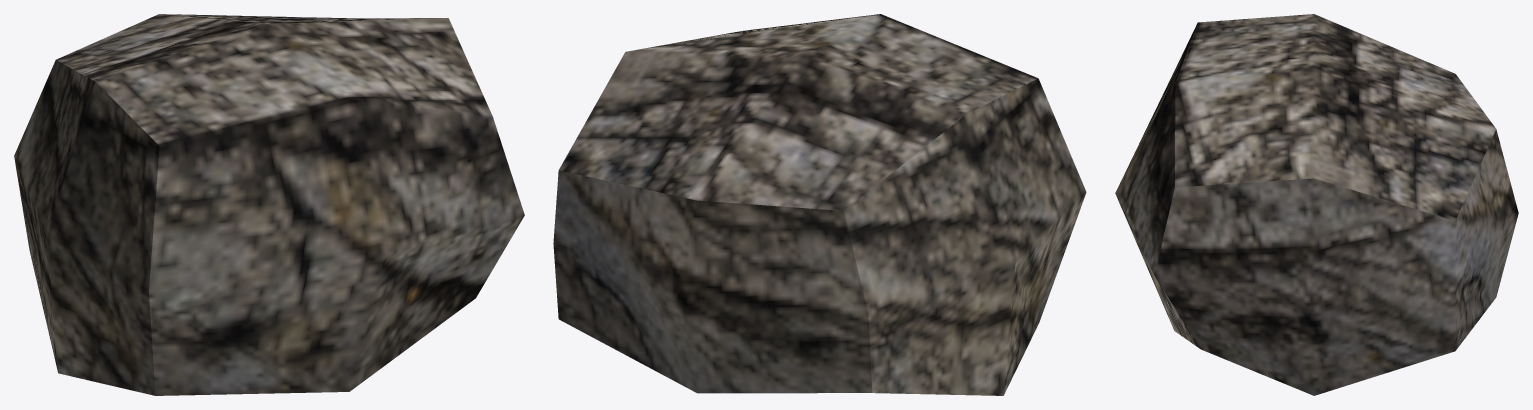
The model's file is Rock 2.fbx.
The picture shows the model from 3 angles, left to right: view 1: azimuth 30°, elevation 25°; view 2: azimuth 150°, elevation 25°; view 3: azimuth 270°, elevation 25°; orthographic projection. The views are drawn at different scales.
Parts seen in each view (by area): view 1: Cube.011; view 2: Cube.011; view 3: Cube.011.
Boxes of the visible parts, x1=… form: Cube.011: x1=14, y1=14, x2=524, y2=395; Cube.011: x1=553, y1=14, x2=1086, y2=395; Cube.011: x1=1115, y1=14, x2=1518, y2=395.
Size of the model in its own units: 1092 by 811 by 1134.
